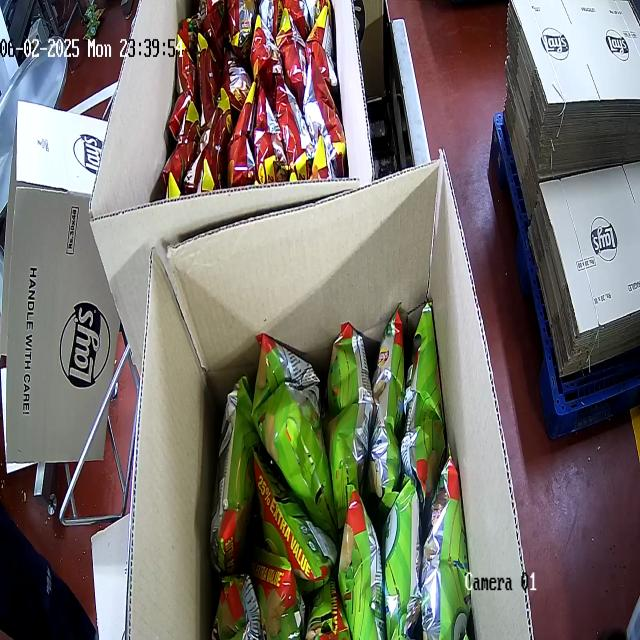MASALA: (152, 0, 335, 194)
YOGURT_HERB: (220, 299, 464, 640)
